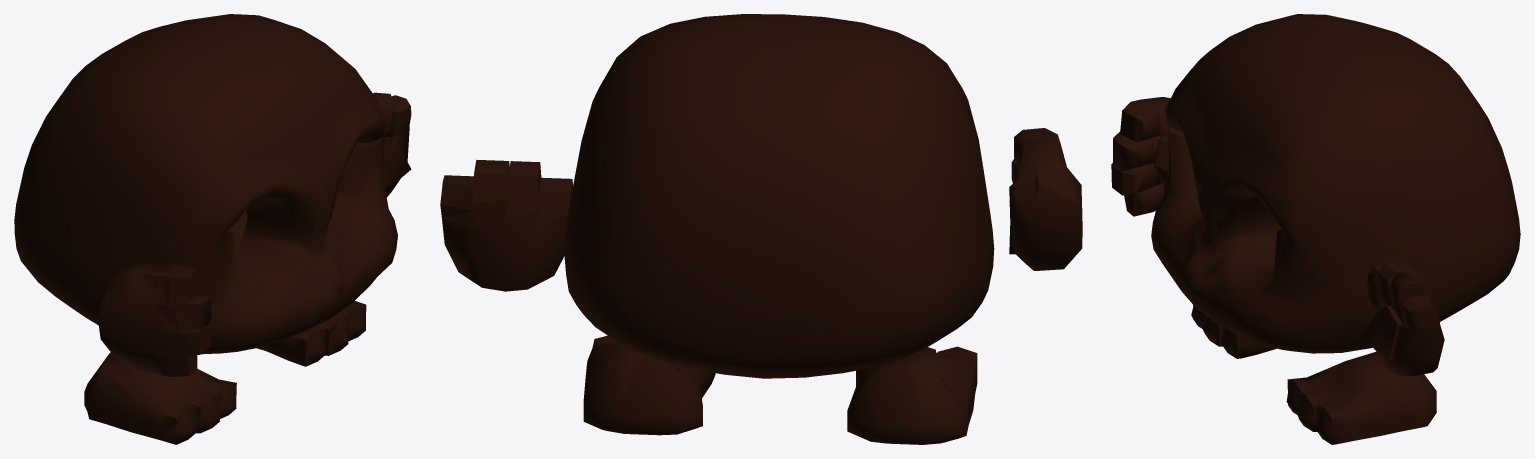
The picture shows the model from 3 angles, left to right: view 1: azimuth 30°, elevation 25°; view 2: azimuth 150°, elevation 25°; view 3: azimuth 270°, elevation 25°; orthographic projection. The views are drawn at different scales.
Visible parts, largest first — view 1: Subdivision_Surface_6.004, rightHand.005, rightFoot.005, leftFoot.005, leftHand.005; view 2: Subdivision_Surface_6.004, leftHand.005, rightFoot.005, leftFoot.005, rightHand.005; view 3: Subdivision_Surface_6.004, leftFoot.005, leftHand.005, rightHand.005, rightFoot.005.
Boxes of the visible parts, bbox=[...] form: Subdivision_Surface_6.004: bbox=[14, 14, 397, 354]; rightHand.005: bbox=[98, 263, 211, 377]; rightFoot.005: bbox=[84, 352, 236, 444]; leftFoot.005: bbox=[256, 301, 366, 366]; leftHand.005: bbox=[373, 92, 411, 197]; Subdivision_Surface_6.004: bbox=[564, 14, 994, 378]; leftHand.005: bbox=[440, 159, 572, 291]; rightFoot.005: bbox=[847, 346, 977, 444]; leftFoot.005: bbox=[583, 335, 715, 435]; rightHand.005: bbox=[1009, 128, 1082, 270]; Subdivision_Surface_6.004: bbox=[1151, 14, 1520, 353]; leftFoot.005: bbox=[1286, 351, 1436, 444]; leftHand.005: bbox=[1363, 262, 1444, 376]; rightHand.005: bbox=[1111, 97, 1170, 216]; rightFoot.005: bbox=[1191, 305, 1276, 358].
Bounding box in the file's own units: 137 × 114 × 101.
